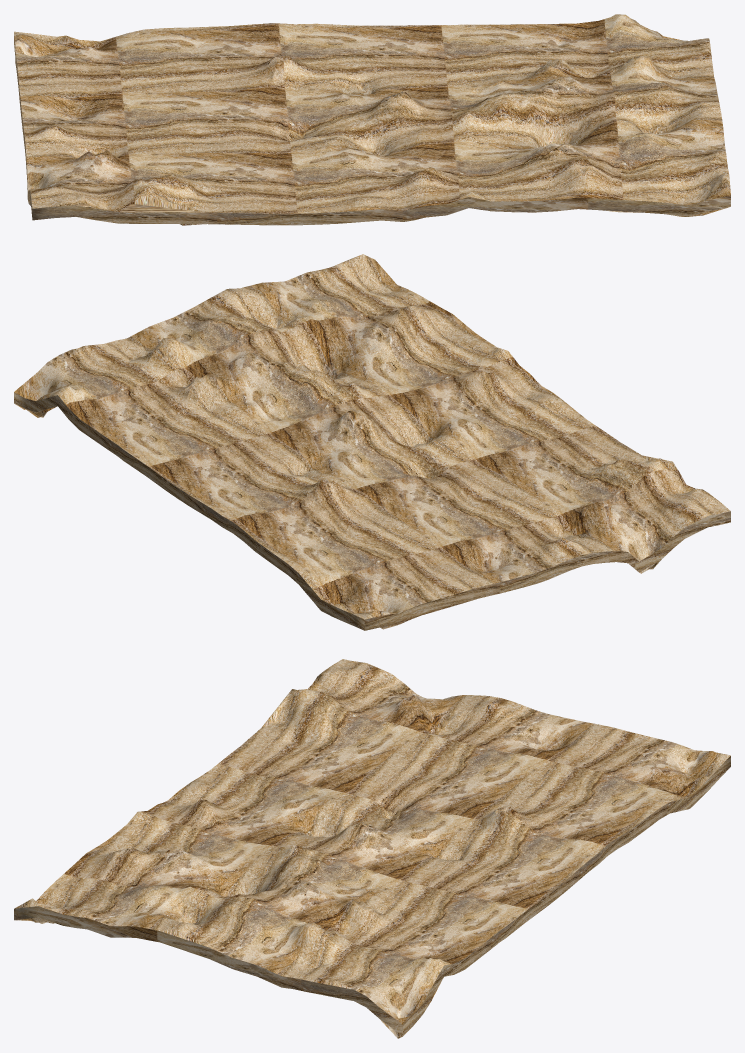
3 views of the same model, one above another, from view 1: azimuth 30°, elevation 25°; view 2: azimuth 150°, elevation 25°; view 3: azimuth 270°, elevation 25° (orthographic). The views are drawn at different scales.
Parts seen in each view (by area): view 1: T; view 2: T; view 3: T.
Boxes of the visible parts, left/top/right/bottom form: T: left=14, top=14, right=730, bottom=225; T: left=14, top=254, right=730, bottom=630; T: left=14, top=659, right=730, bottom=1038.
Size of the model in its own units: 11149 by 1048 by 9970.
1 material, 1 textured.
